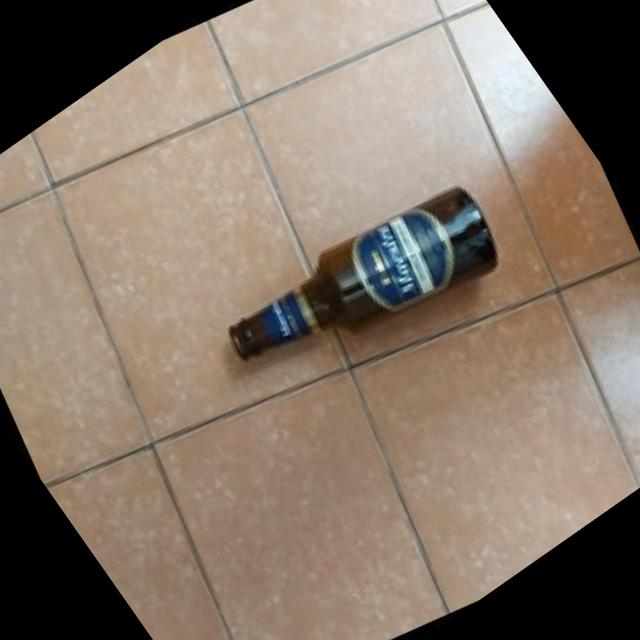BotolKaca: (214, 160, 512, 416)
